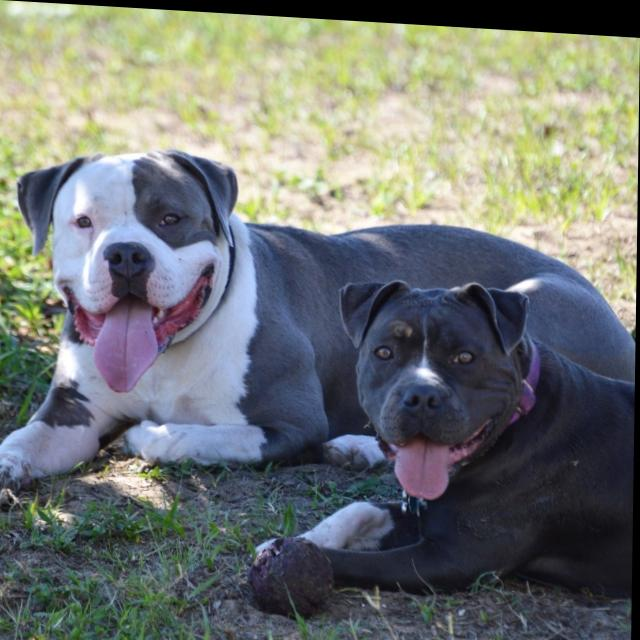am_pit_bull_terrier: (1, 139, 639, 525), (255, 264, 638, 600)
